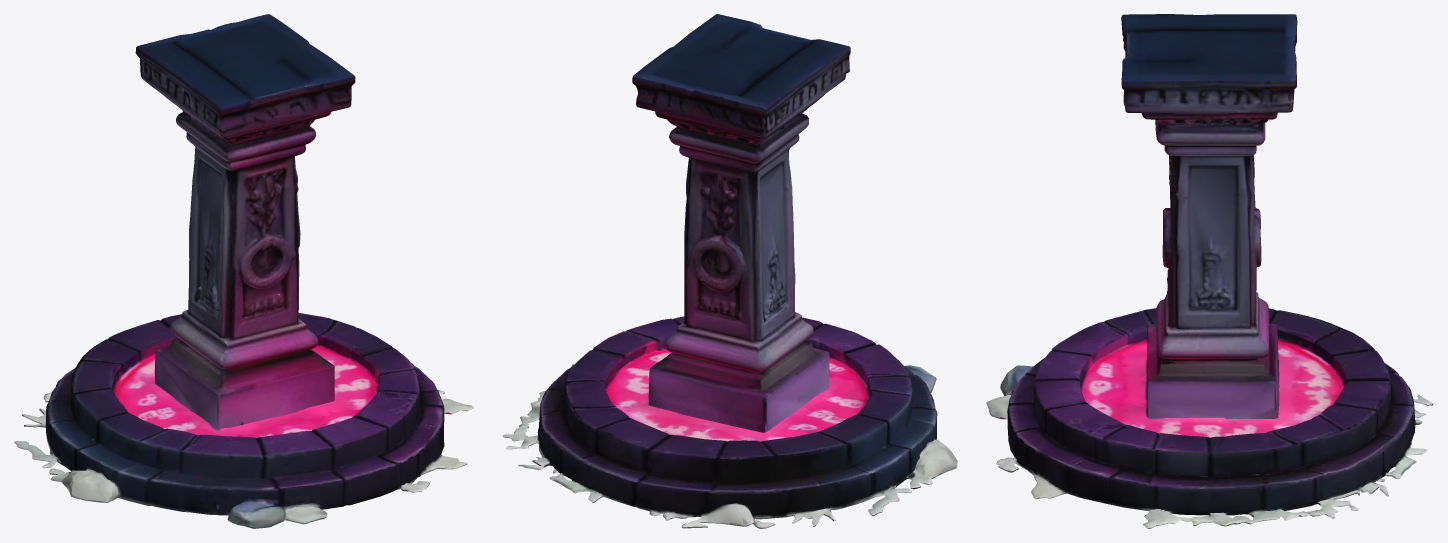
The model's file is support-column-generated-2026-05-17T18-34-01-911Z.low.glb.
3 renders of one model, left to right at view 1: azimuth 30°, elevation 25°; view 2: azimuth 150°, elevation 25°; view 3: azimuth 270°, elevation 25°, orthographic. The views are drawn at different scales.
Parts seen in each view (by area): view 1: temp_mesh.ply; view 2: temp_mesh.ply; view 3: temp_mesh.ply.
Part boxes in pixels (x1,y1,x2,y2): temp_mesh.ply: (14,14,473,528); temp_mesh.ply: (502,14,957,528); temp_mesh.ply: (986,14,1433,528).
Bounding box in the file's own units: 1.97 × 1.81 × 1.9.
1 material, 1 textured.
